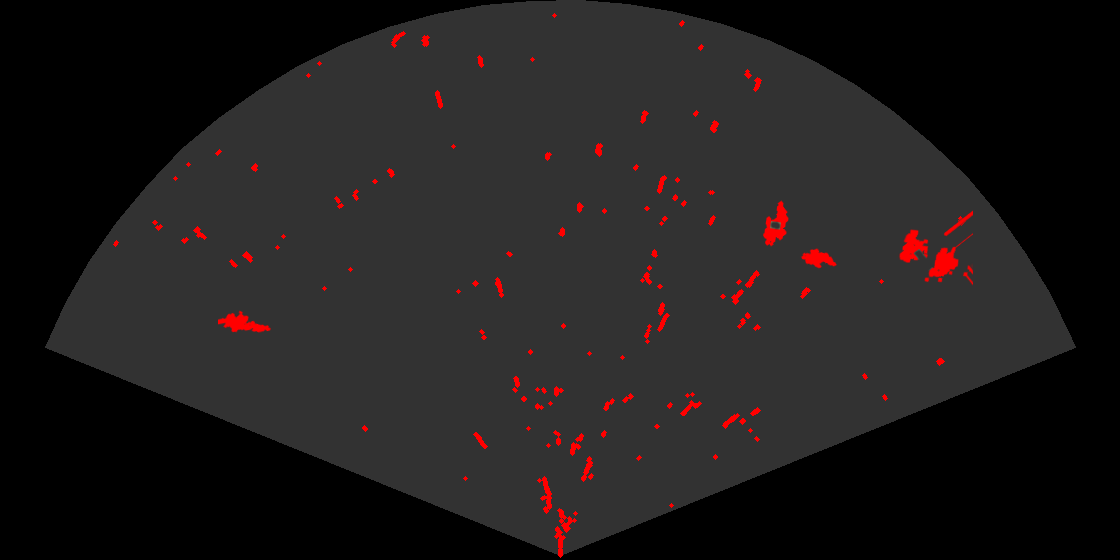AUV: (762, 199, 790, 248), (799, 247, 839, 270)
cage: (897, 209, 973, 287)
frogman: (218, 309, 271, 334)
